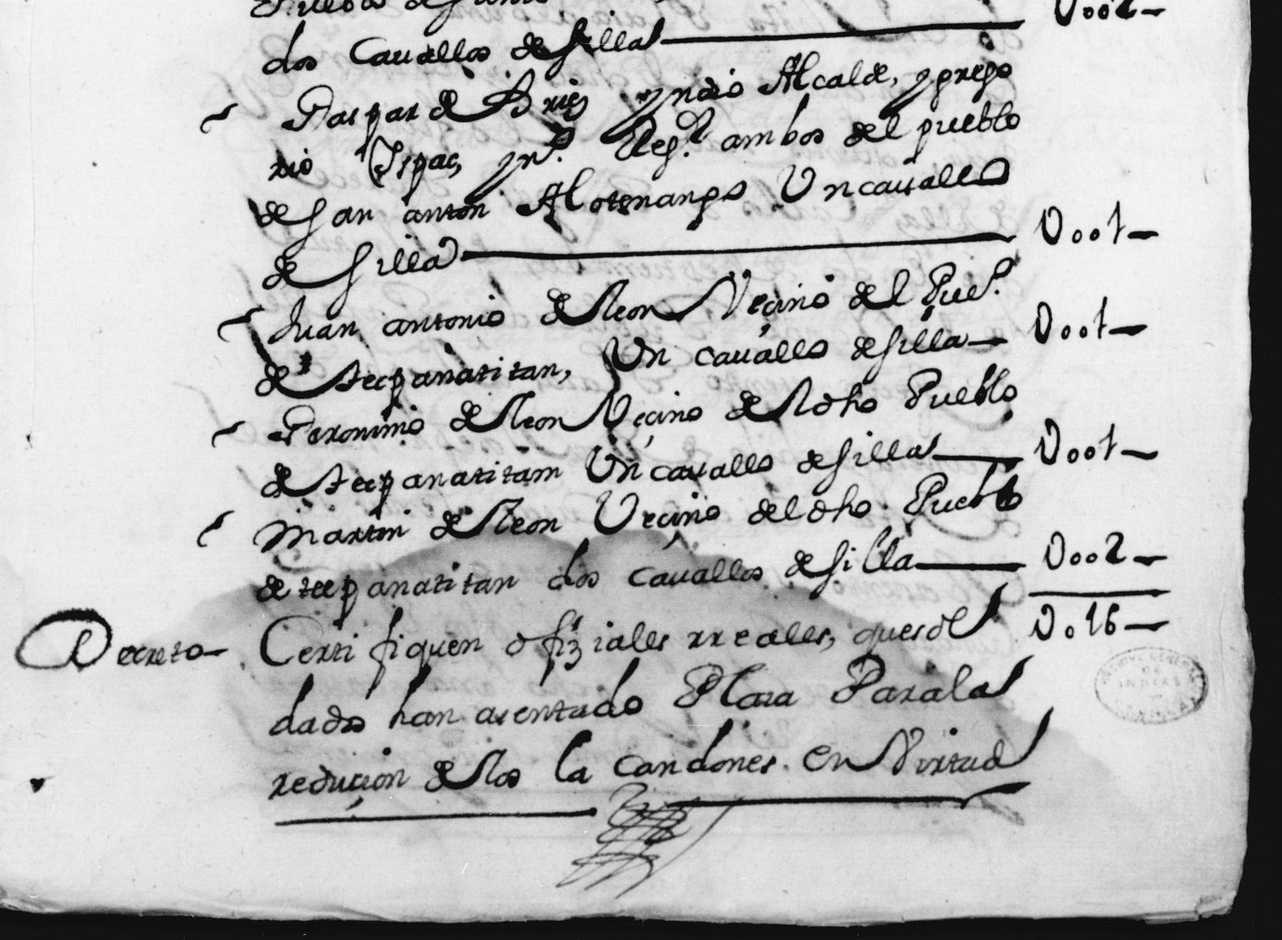lacandon: (555, 717, 776, 784)
